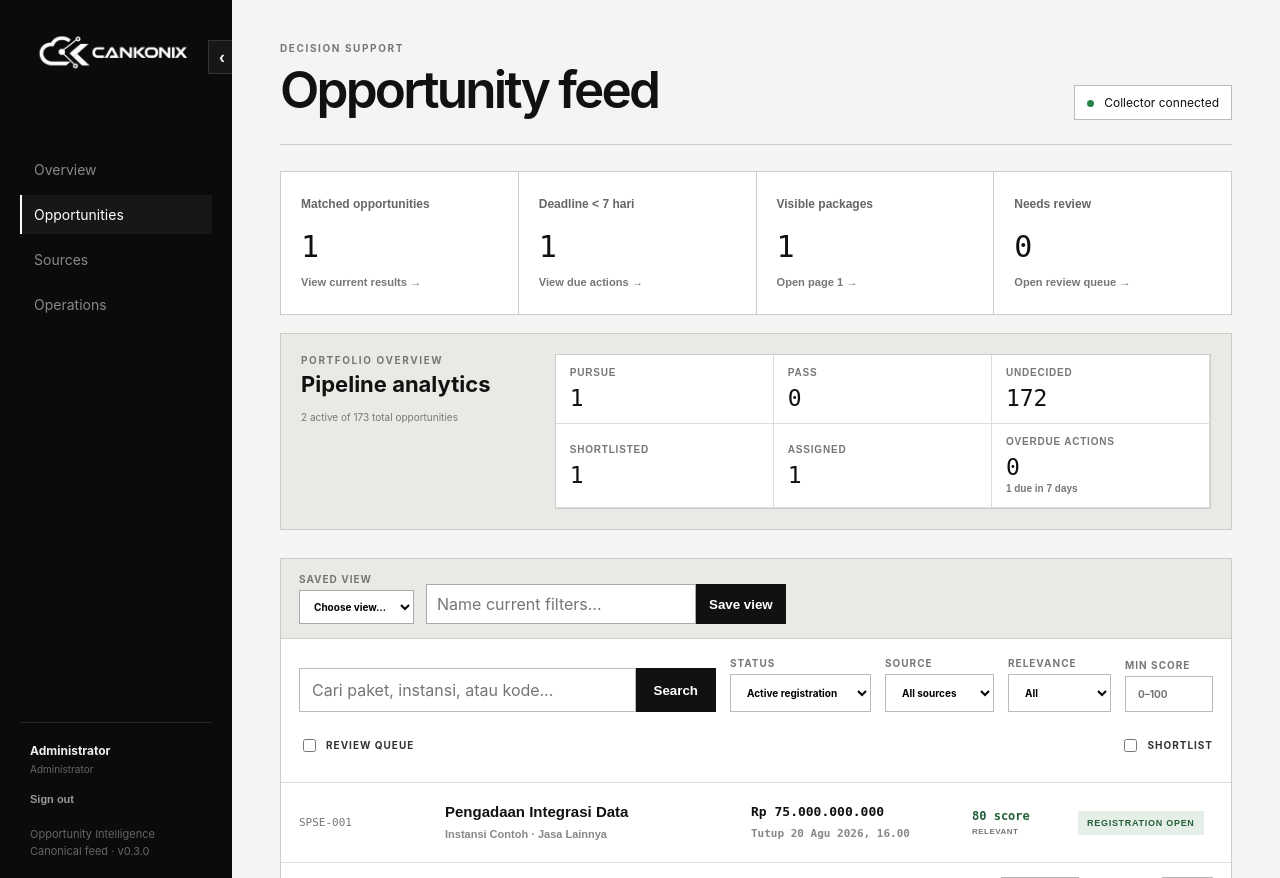
Scenario: Dashboard › renders canonical feed and opens auditable detail
Click the text "Pengadaan Integrasi Data": (537, 812) [445,803,628,820]
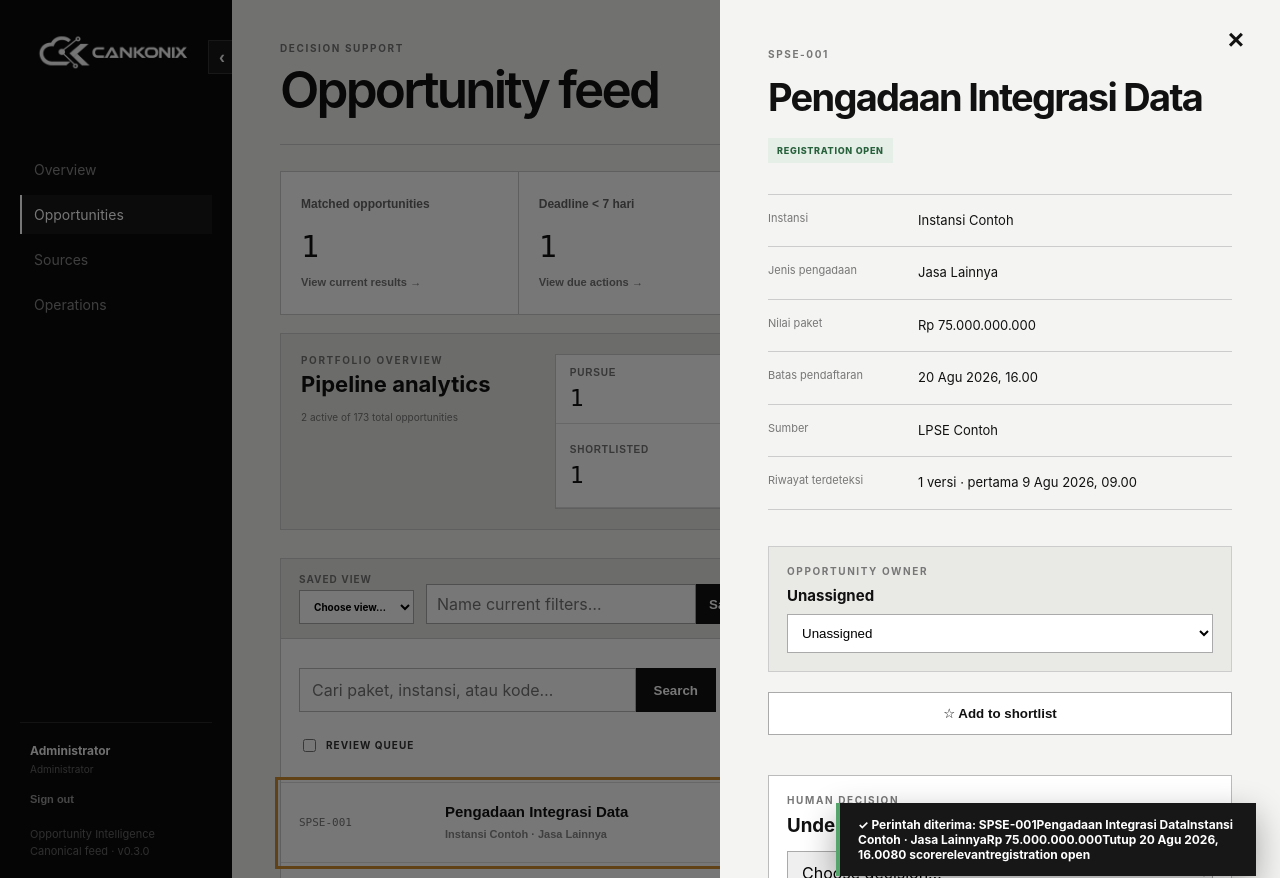
Expected: the dialog shows "LPSE Contoh", [918,422,998,438]
Expected: the dialog shows "Unassigned", [787,586,874,605]
Expected: the button "☆ Add to shortlist" is shown, [768,692,1232,735]
